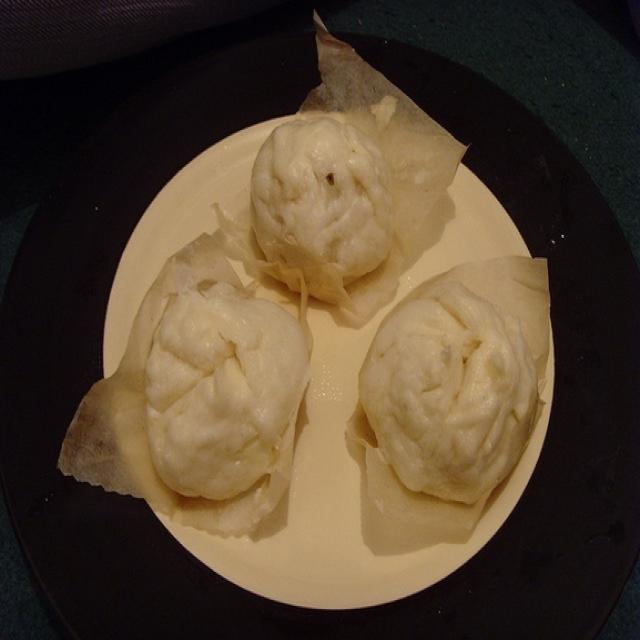带馅早点: (63, 60, 561, 615)
